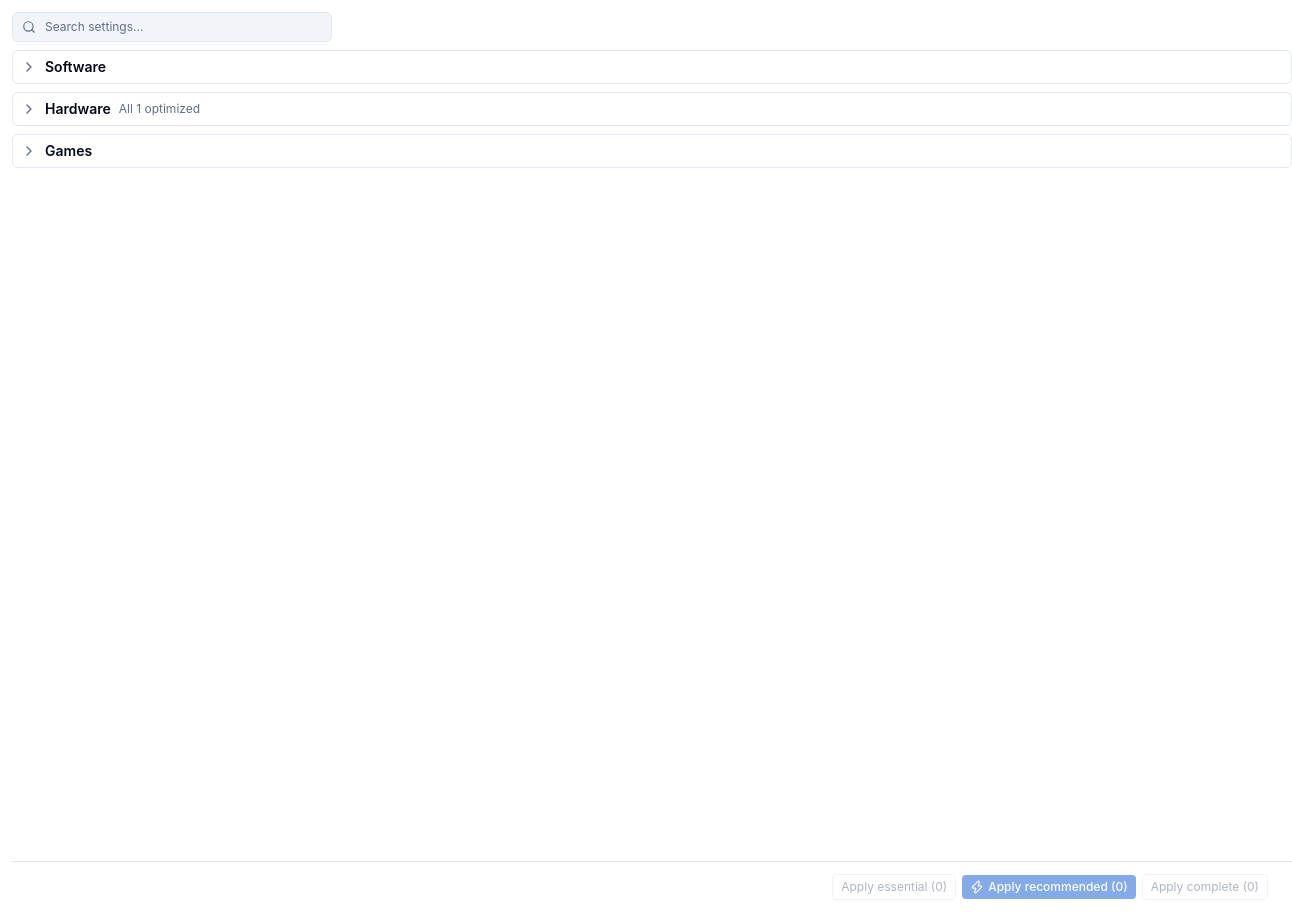
Test: a device is named once, in its header › shows a monitor's model once, with its device path and hardware id as detail
Click the button "Hardware All 1 optimized". click: (78, 108)
box: x1=21 y1=99 x2=1275 y2=119
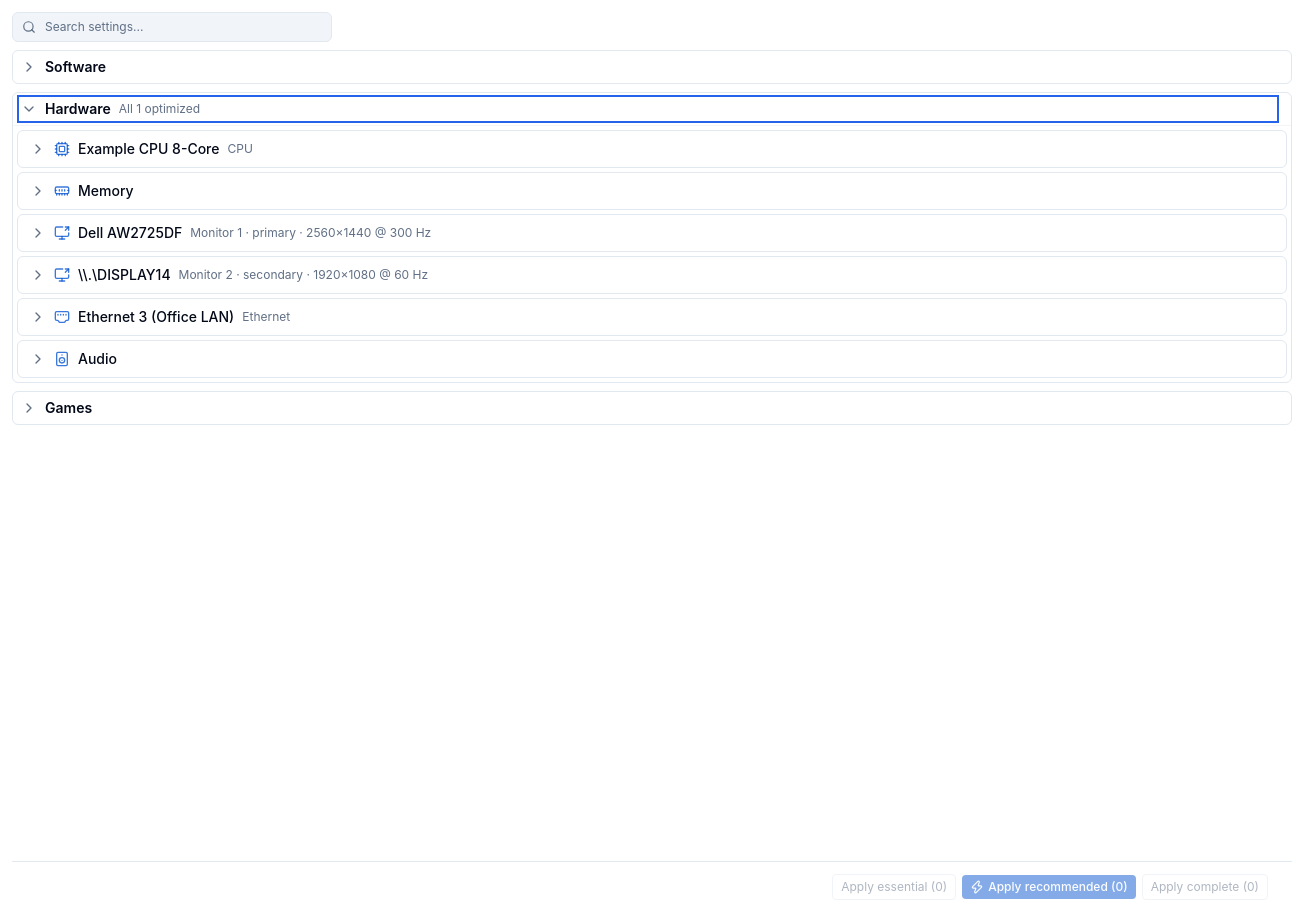
Click the button "Dell AW2725DF Monitor 1 · primary · 2560×1440 @ 300 Hz". click: (130, 232)
box: x1=18 y1=215 x2=1286 y2=251
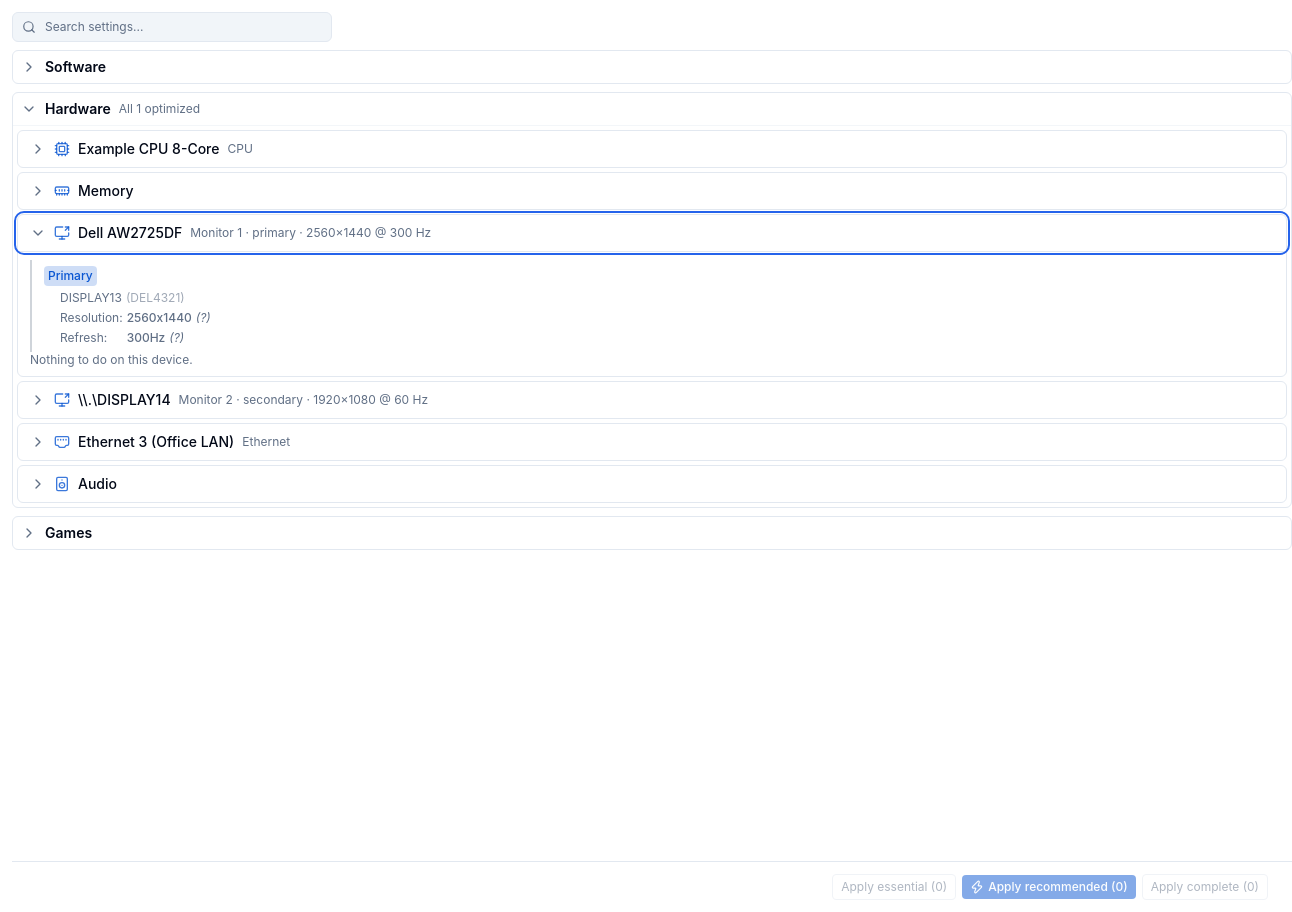
expect the text "Dell AW2725DF" is shown once: met, box x1=78 y1=223 x2=182 y2=243
expect the text "DISPLAY13(DEL4321)" is shown: met, box x1=60 y1=290 x2=185 y2=305
expect the text "(DEL4321)" is shown: met, box x1=126 y1=290 x2=185 y2=305
